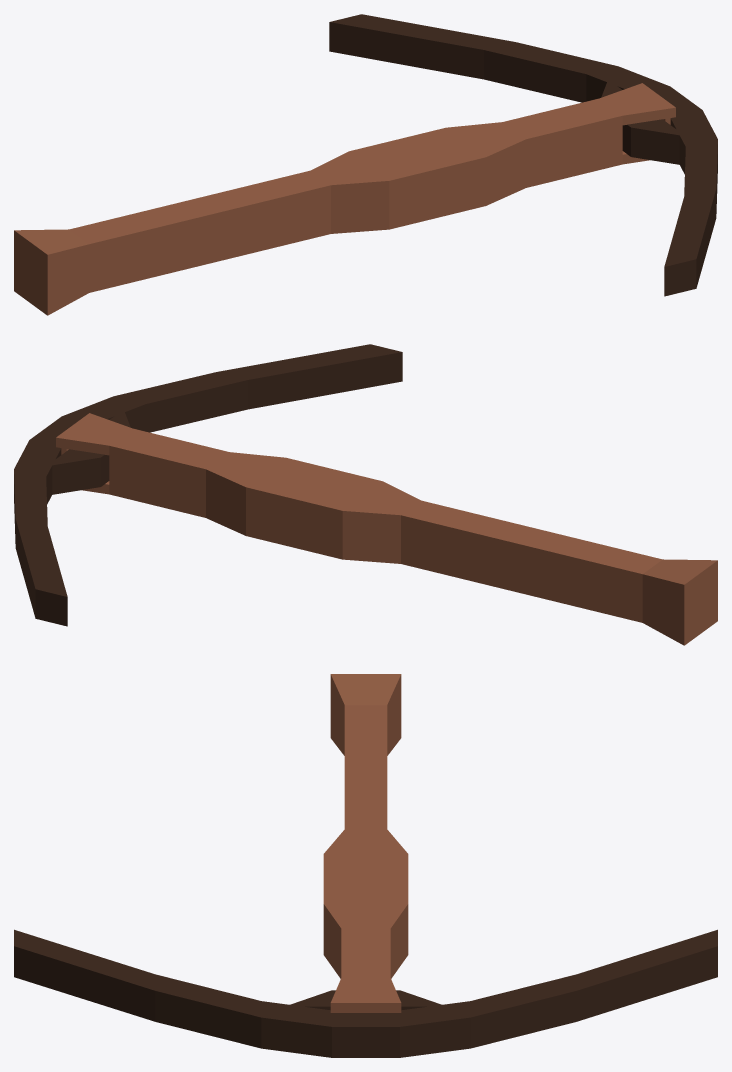
The model's file is crossbow.fbx.
The picture shows the model from 3 angles, top to bottom: view 1: azimuth 30°, elevation 25°; view 2: azimuth 150°, elevation 25°; view 3: azimuth 270°, elevation 25°; orthographic projection. The views are drawn at different scales.
Visible parts, largest first — view 1: Cube, Cube.003; view 2: Cube, Cube.003; view 3: Cube.003, Cube.
Boxes of the visible parts, <box> form: Cube: <box>14,83,675,315</box>; Cube.003: <box>329,14,717,296</box>; Cube: <box>56,413,717,645</box>; Cube.003: <box>14,344,402,626</box>; Cube.003: <box>14,929,717,1057</box>; Cube: <box>323,674,408,1012</box>.
Bounding box in the file's own units: 2252 × 200 × 1992.
